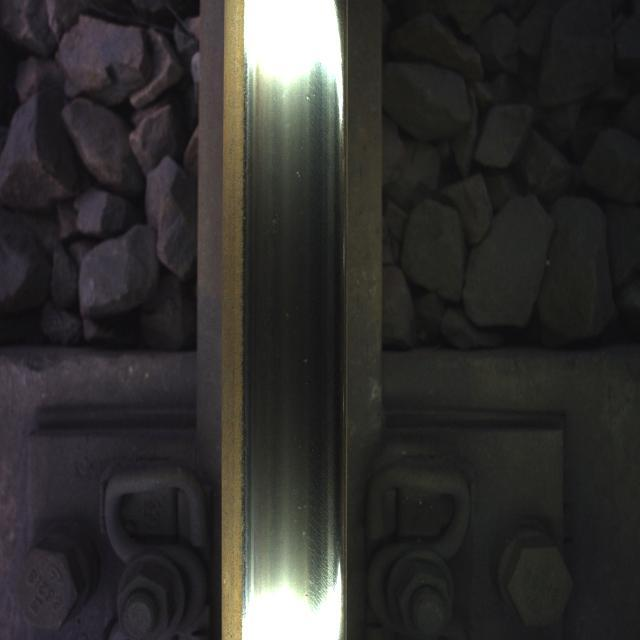break: (251, 48, 334, 602)
